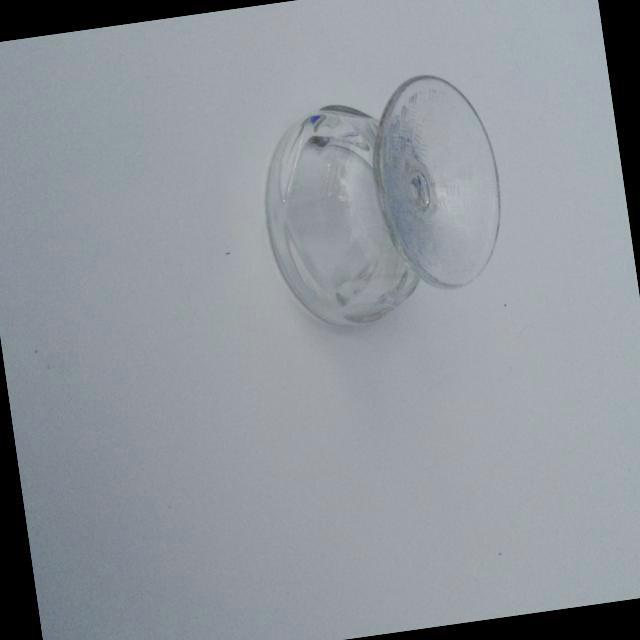glass: (241, 57, 526, 355)
